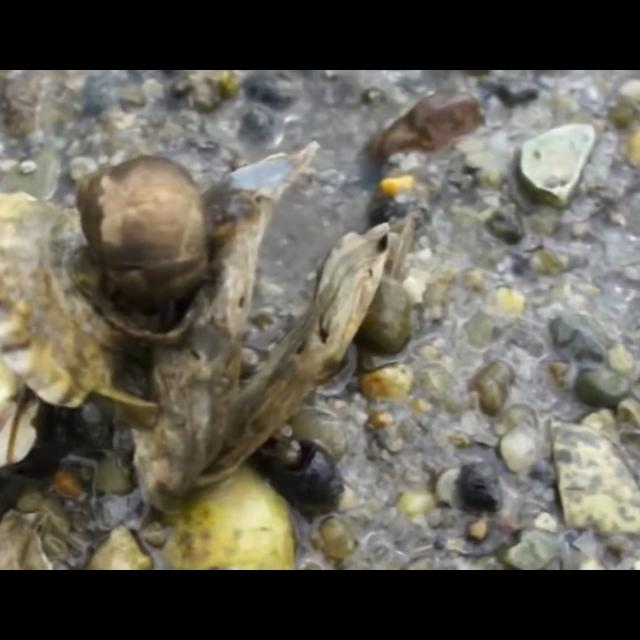Oyster-Closed: (0, 189, 130, 409)
Oyster-Open: (131, 140, 405, 510)
